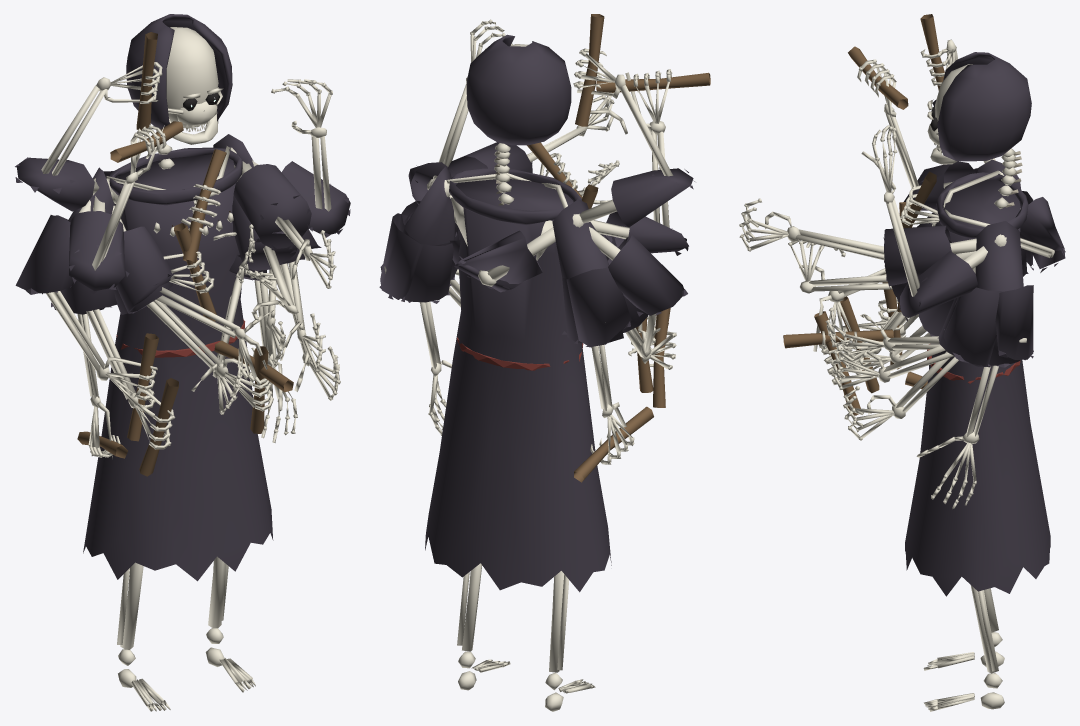
Rendered from hero_4.glb.
3 views of the same model, side by side, from view 1: azimuth 30°, elevation 25°; view 2: azimuth 150°, elevation 25°; view 3: azimuth 270°, elevation 25° (orthographic). The views are drawn at different scales.
Parts seen in each view (by area): view 1: B_0d, R.staffR_5d, R.cast_6d, R.raised_3d, R.xbowR_8d, L.bowArm_12d, L.cast_15d, R.weapon_2d, R.twoR_7d, L.xbowL_14d, R.rest_1d, R.draw_4d (+6 smaller); view 2: B_0d, R.raised_3d, R.staffR_5d, R.cast_6d, R.draw_4d, R.carry_9d, L.rest_10d, R.rest_1d, L.bowArm_12d, L.cast_15d, L.carry_17d, R.weapon_2d; view 3: B_0d, L.shield_11d, L.bowArm_12d, L.cast_15d, R.draw_4d, R.cast_6d, L.carry_17d, L.rest_10d, L.weapon_18d, L.xbowL_14d, R.xbowR_8d, L.book_16d (+5 smaller).
Boxes of the visible parts, box(x1,y1,x2,y2) form: B_0d: box(68, 14, 273, 711); R.staffR_5d: box(15, 180, 158, 441); R.cast_6d: box(69, 121, 183, 294); R.raised_3d: box(15, 32, 162, 211); R.xbowR_8d: box(108, 181, 293, 392); L.bowArm_12d: box(233, 152, 336, 288); L.cast_15d: box(252, 79, 350, 237); R.weapon_2d: box(61, 180, 178, 476); R.twoR_7d: box(93, 179, 273, 433); L.xbowL_14d: box(231, 147, 298, 320); R.rest_1d: box(51, 181, 127, 459); R.draw_4d: box(103, 149, 226, 262); B_0d: box(404, 34, 611, 711); R.raised_3d: box(572, 14, 694, 227); R.staffR_5d: box(572, 217, 687, 392); R.cast_6d: box(574, 69, 710, 255); R.draw_4d: box(454, 142, 582, 292); R.carry_9d: box(566, 184, 631, 347); L.rest_10d: box(401, 181, 454, 435); R.rest_1d: box(562, 214, 653, 482); L.bowArm_12d: box(434, 92, 627, 196); L.cast_15d: box(408, 19, 512, 204); L.carry_17d: box(379, 182, 450, 301); R.weapon_2d: box(576, 214, 676, 407); B_0d: box(905, 52, 1050, 711); L.shield_11d: box(831, 237, 1006, 390); L.bowArm_12d: box(739, 198, 1000, 289); L.cast_15d: box(861, 125, 1004, 321); R.draw_4d: box(900, 171, 1065, 272); R.cast_6d: box(848, 46, 1003, 210); L.carry_17d: box(884, 236, 1033, 360); L.rest_10d: box(916, 238, 1020, 509); L.weapon_18d: box(843, 237, 1003, 440); L.xbowL_14d: box(788, 234, 1003, 302); R.xbowR_8d: box(783, 209, 937, 351); L.book_16d: box(825, 236, 1006, 367).
Bounding box in the file's own units: 0.9563 × 2 × 0.9111.
